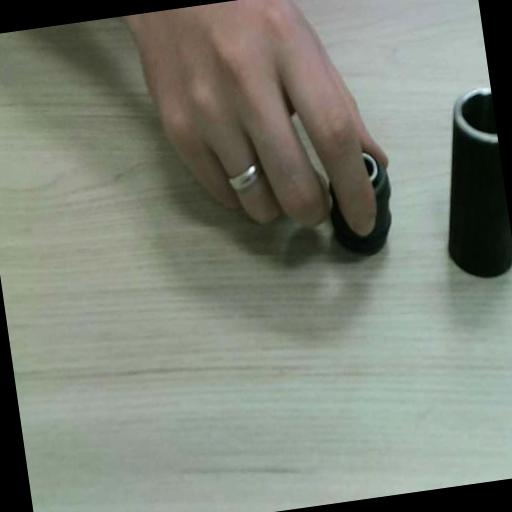peca: (449, 87, 512, 275), (329, 155, 391, 254)
